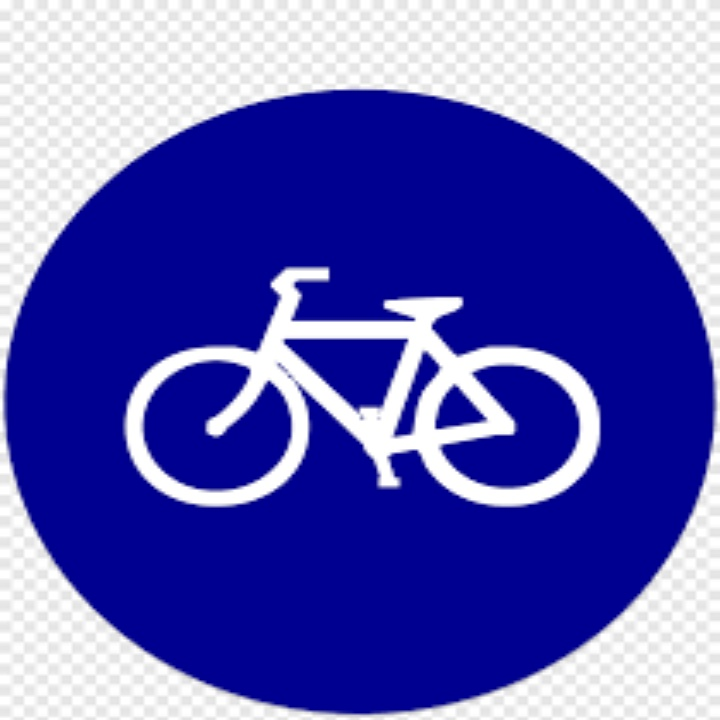bicycle: (121, 263, 606, 515)
